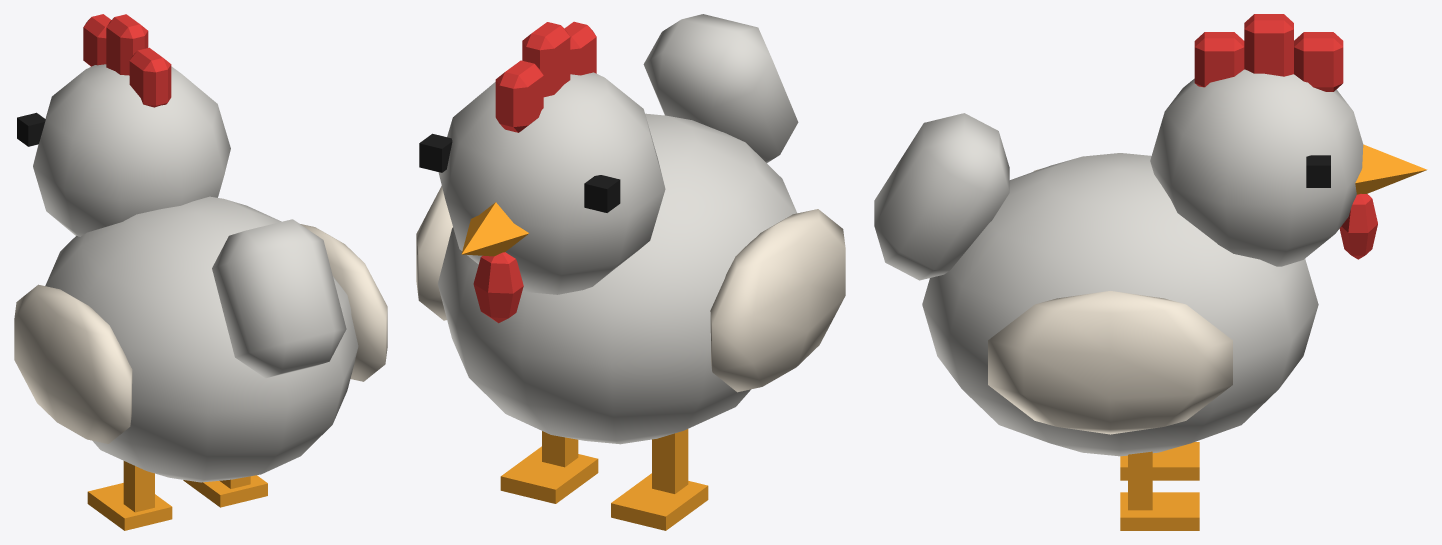
The model's file is Tavuk_Model.fbx.
3 views of the same model, side by side, from view 1: azimuth 30°, elevation 25°; view 2: azimuth 150°, elevation 25°; view 3: azimuth 270°, elevation 25° (orthographic). The views are drawn at different scales.
Parts seen in each view (by area): view 1: Tavuk_Model; view 2: Tavuk_Model; view 3: Tavuk_Model.
Part boxes in pixels (x1,y1,x2,y2): Tavuk_Model: (14,14,387,530); Tavuk_Model: (416,14,845,530); Tavuk_Model: (874,14,1427,530).
Size of the model in its own units: 38.66 by 53 by 55.83.
